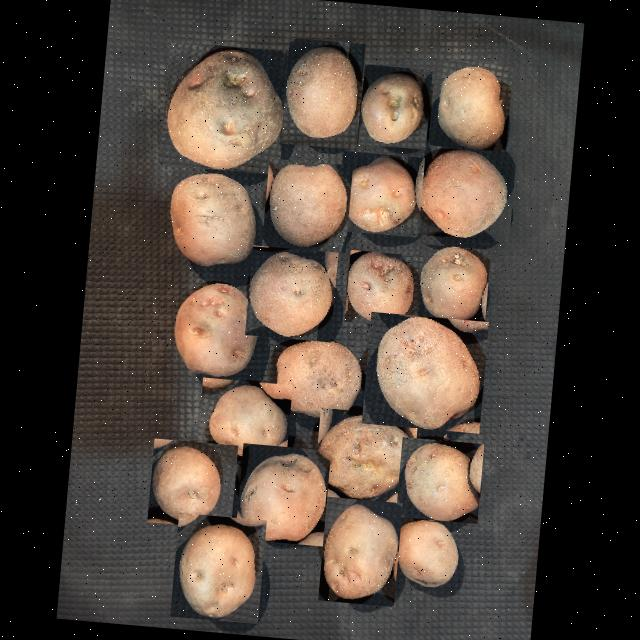Diseased-fungal potato: (159, 40, 289, 174), (362, 310, 488, 432), (160, 163, 263, 273), (170, 512, 266, 622), (164, 276, 262, 381), (313, 407, 418, 502), (234, 442, 330, 545), (417, 144, 516, 242), (280, 36, 366, 148), (318, 496, 402, 606), (244, 244, 338, 341), (265, 331, 365, 422), (262, 157, 352, 252), (195, 376, 292, 464), (427, 58, 513, 156), (147, 437, 238, 528), (336, 150, 425, 236), (395, 436, 484, 522), (412, 242, 491, 326), (358, 63, 432, 148), (344, 248, 422, 326), (389, 512, 462, 590)
